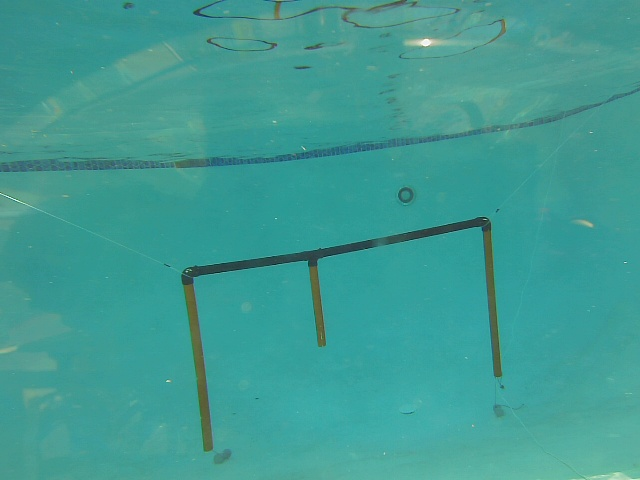Gate: (178, 275, 218, 455), (481, 223, 503, 379), (307, 258, 330, 353)
